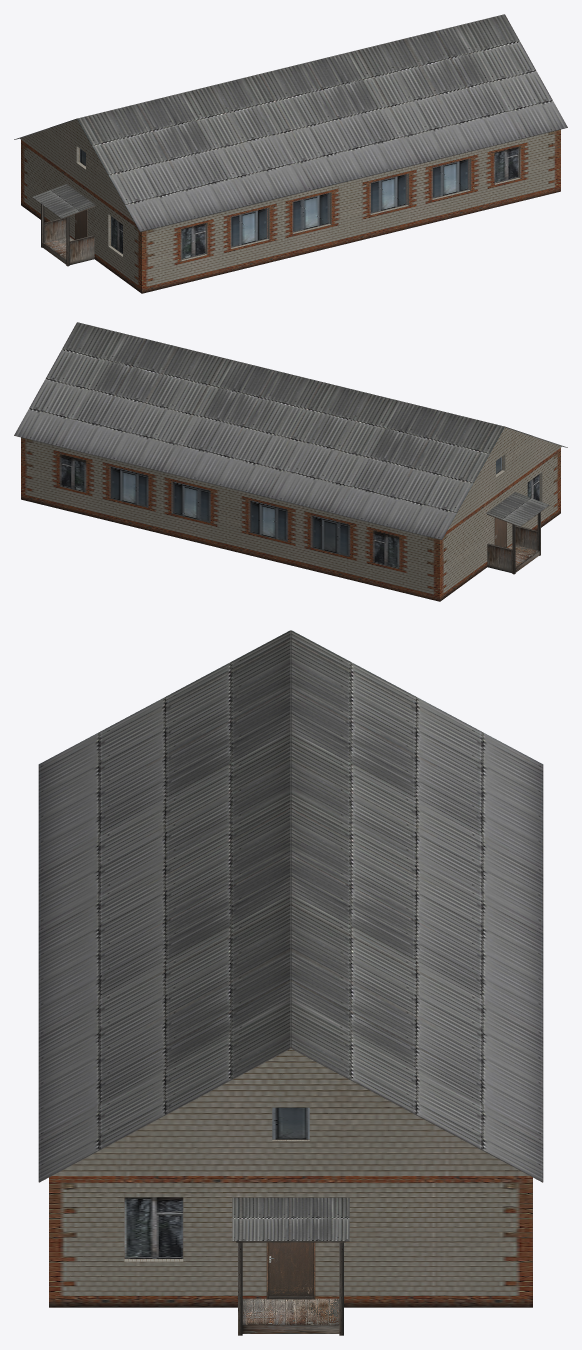
The model's file is Dhz_zsfz_09.FBX.
3 renders of one model, top to bottom at view 1: azimuth 30°, elevation 25°; view 2: azimuth 150°, elevation 25°; view 3: azimuth 270°, elevation 25°, orthographic. The views are drawn at different scales.
Parts seen in each view (by area): view 1: Dhz_zsfz_09; view 2: Dhz_zsfz_09; view 3: Dhz_zsfz_09.
Boxes of the visible parts, x1=… form: Dhz_zsfz_09: x1=14, y1=14, x2=567, y2=293; Dhz_zsfz_09: x1=14, y1=322, x2=567, y2=601; Dhz_zsfz_09: x1=38, y1=630, x2=543, y2=1335.
Size of the model in its own units: 23.3 by 6.06 by 10.43.
